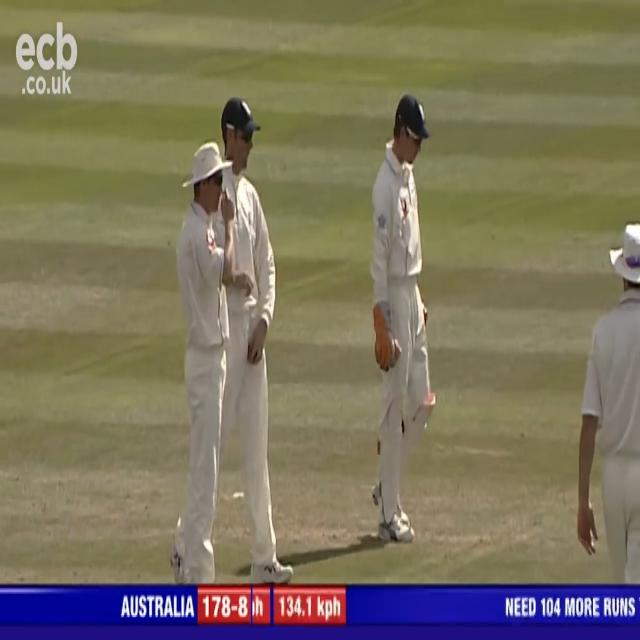ball: (247, 344, 260, 362)
